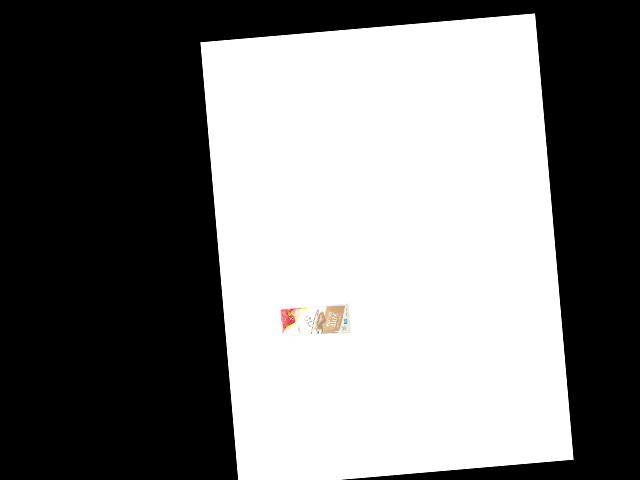chocolate: (278, 301, 349, 339)
